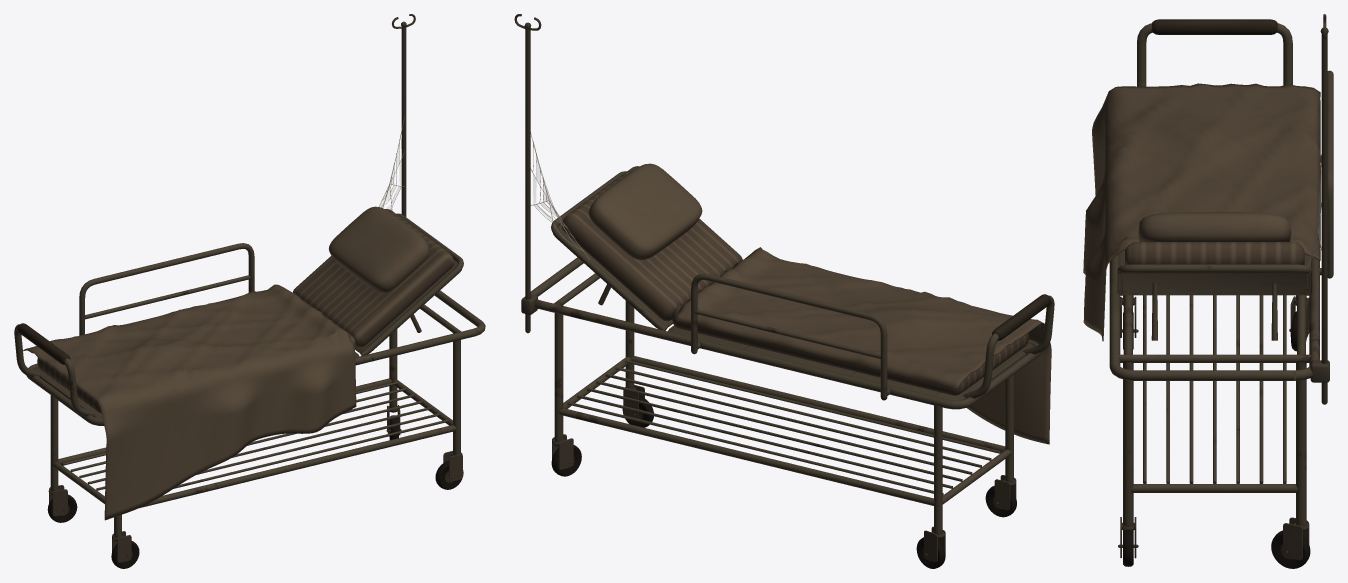
Rendered from hospital-gurney.glb.
3 views of the same model, side by side, from view 1: azimuth 30°, elevation 25°; view 2: azimuth 150°, elevation 25°; view 3: azimuth 270°, elevation 25° (orthographic). The views are drawn at different scales.
Parts seen in each view (by area): view 1: hospital-gurney_body; view 2: hospital-gurney_body, hospital-gurney_web; view 3: hospital-gurney_body, hospital-gurney_web.
Part boxes in pixels (left/top/right/bottom): hospital-gurney_body: left=14, top=14, right=485, bottom=568; hospital-gurney_body: left=514, top=14, right=1054, bottom=568; hospital-gurney_web: left=530, top=132, right=589, bottom=259; hospital-gurney_body: left=1083, top=14, right=1333, bottom=568; hospital-gurney_web: left=1308, top=154, right=1321, bottom=267.
Bounding box in the file's own units: 1.97 × 1.87 × 0.7522.
3 materials, 1 textured.
